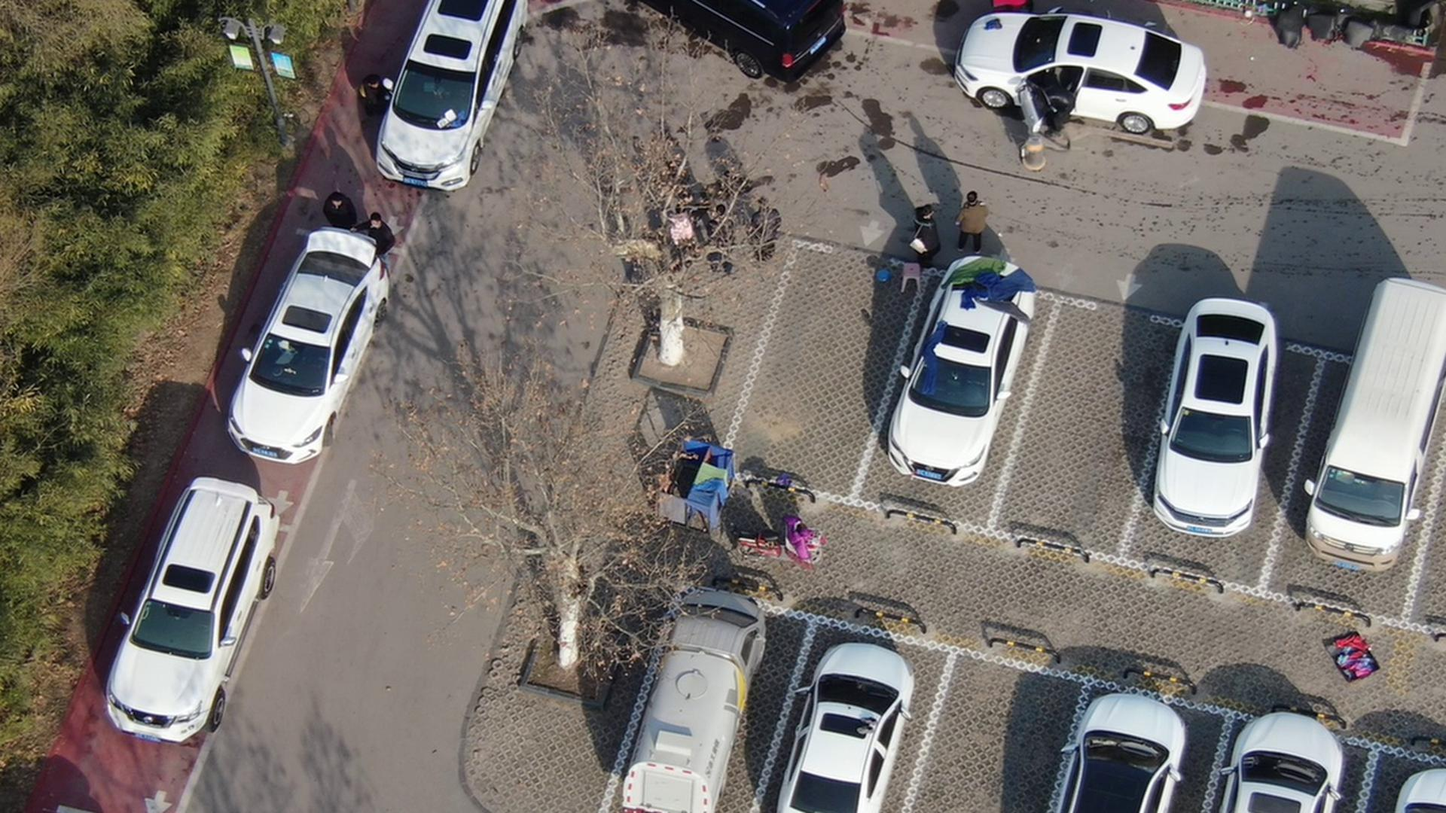human: (362, 200, 407, 276), (959, 178, 1002, 254), (706, 194, 744, 279), (750, 193, 790, 268), (1041, 73, 1082, 138), (911, 196, 948, 265), (366, 69, 404, 122), (326, 185, 362, 233)
